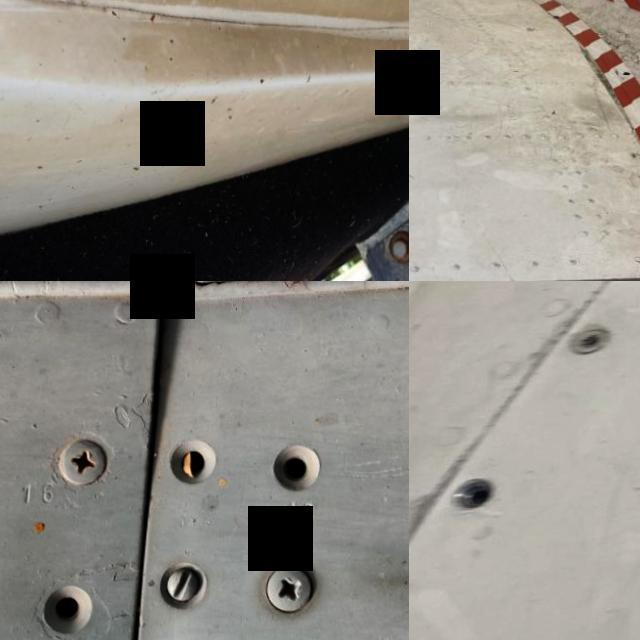Crack: (13, 0, 409, 31)
Missing_Fastener: (247, 421, 355, 522), (18, 550, 138, 640), (453, 474, 514, 516)
